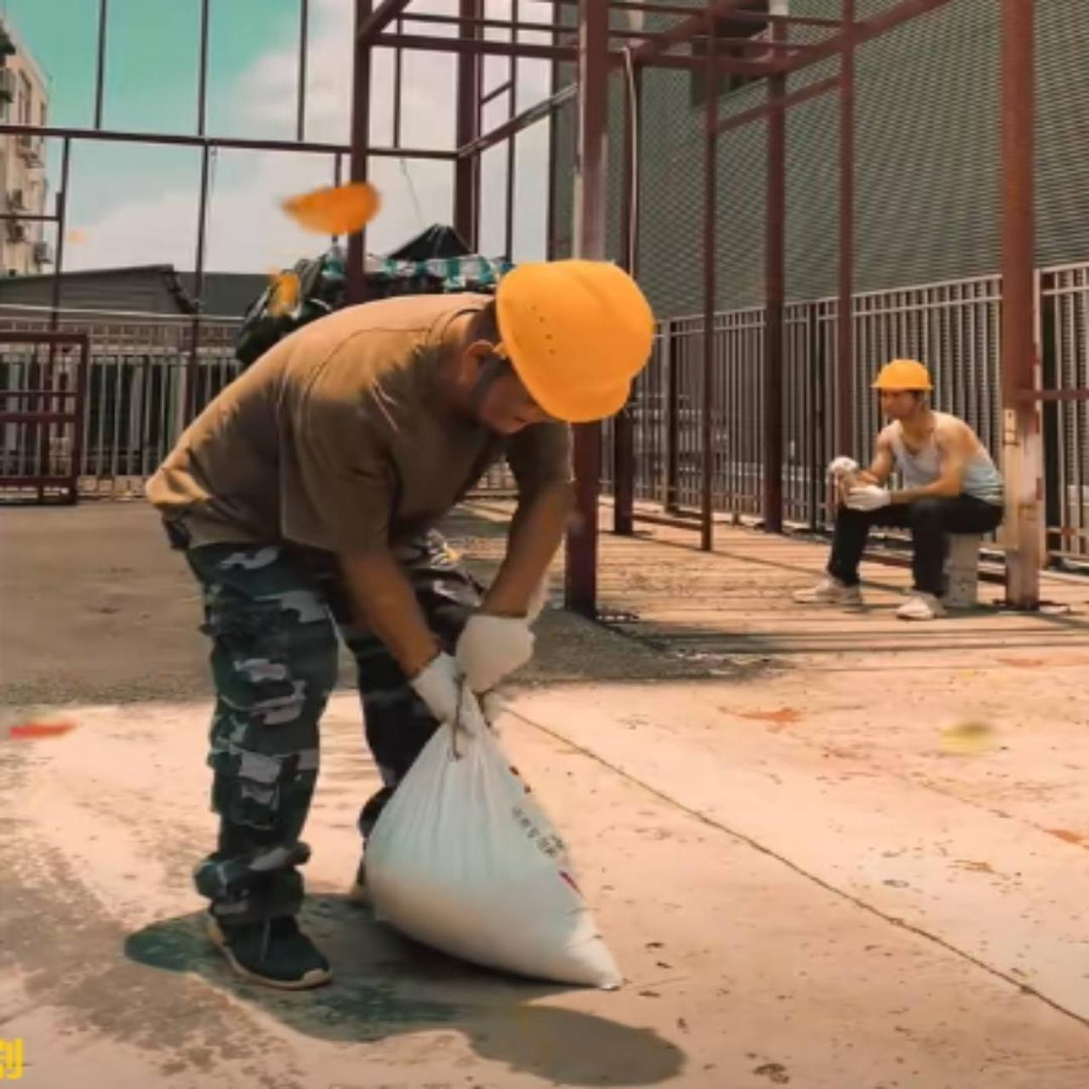NO_Safety_Vest: (151, 298, 507, 551)
Person: (106, 222, 665, 1017), (811, 331, 1079, 657)
